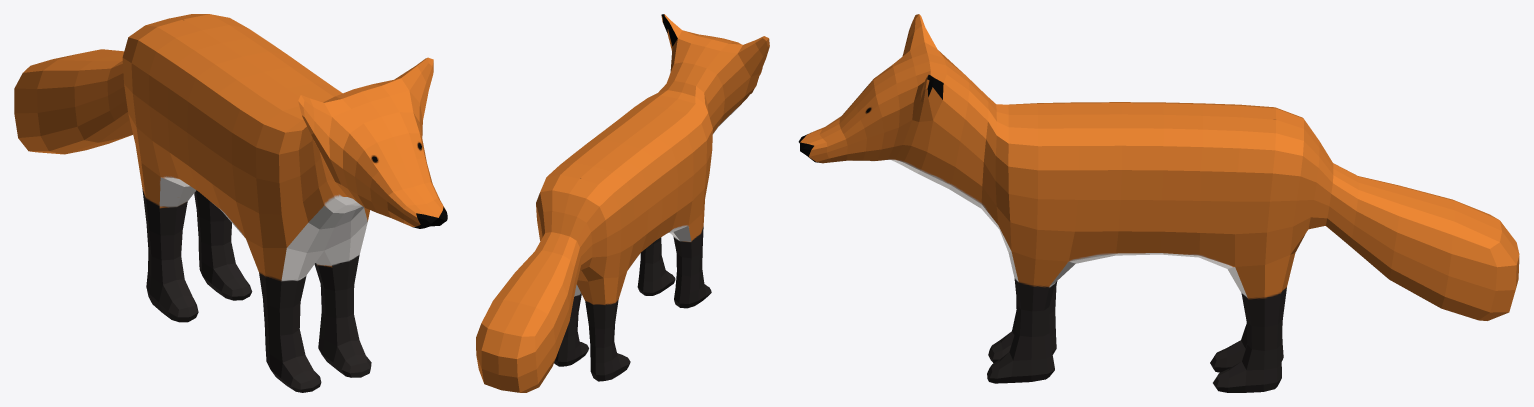
Rendered from fox.fbx.
The picture shows the model from 3 angles, left to right: view 1: azimuth 30°, elevation 25°; view 2: azimuth 150°, elevation 25°; view 3: azimuth 270°, elevation 25°; orthographic projection. The views are drawn at different scales.
Visible parts, largest first — view 1: Fox; view 2: Fox; view 3: Fox.
Part boxes in pixels (x1,y1,x2,y2): Fox: [14, 14, 447, 392]; Fox: [476, 14, 769, 392]; Fox: [798, 14, 1519, 392].
Bounding box in the file's own units: 29.12 × 69.41 × 133.
1 material, 1 textured.
